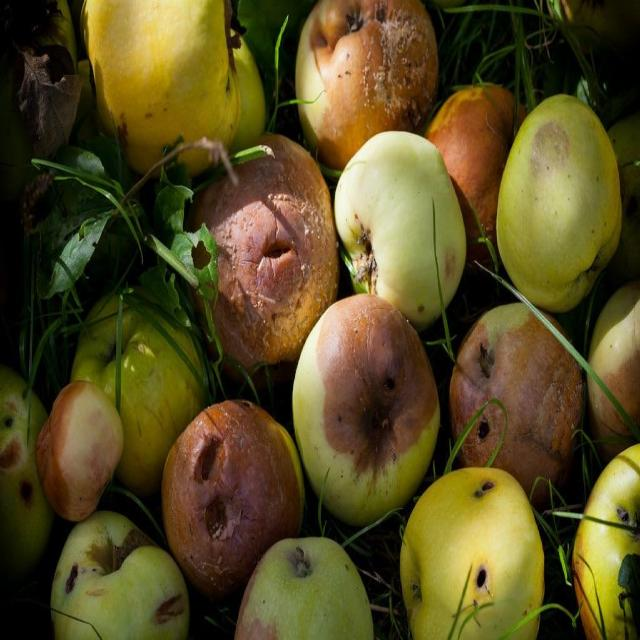Wet Waste: (2, 3, 639, 639)
